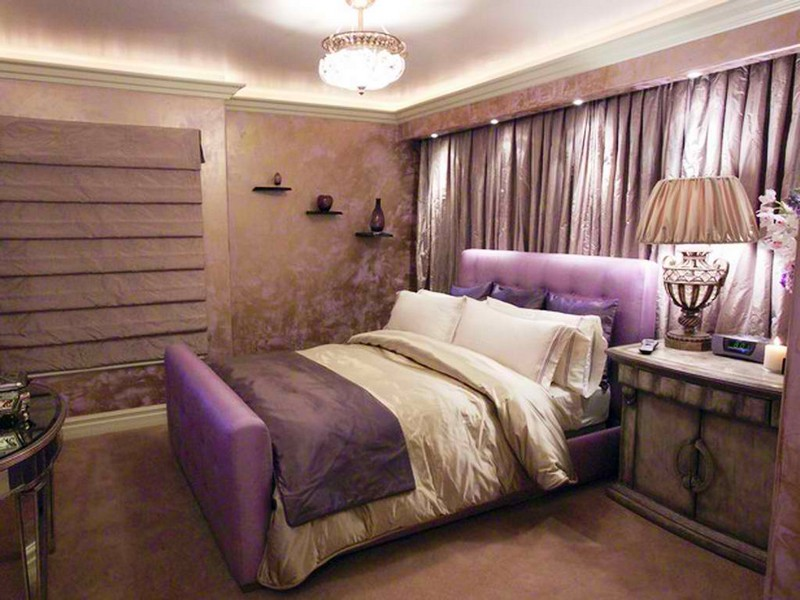bed: (161, 252, 663, 584)
lamp: (634, 175, 761, 367)
table: (605, 337, 786, 575), (2, 378, 64, 596)
